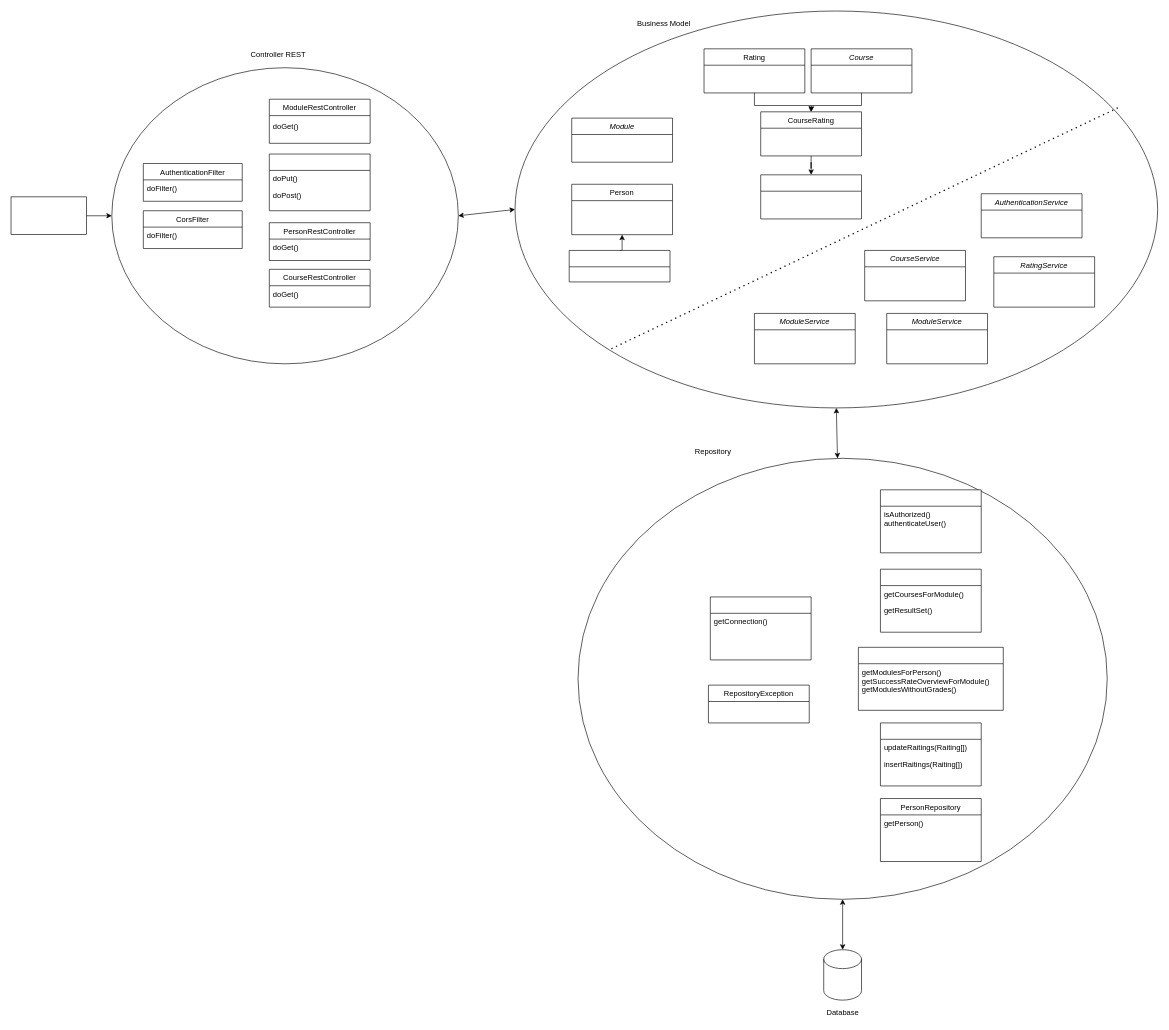
Some shapes in this 1169 by 1030 pixel diagram are drawn without their labels. The shapes that lost their labels are listed below. From the top down, each one's box as (x1, y1, x2, y2) in pixels, then its label:
(269, 153, 370, 211): RatingRestController
(760, 174, 862, 219): StudentCourseRating
(10, 196, 87, 235): REST - Request
(569, 250, 670, 282): Role
(880, 489, 981, 553): AuthenticationRepository
(880, 569, 981, 632): CourseRepository
(710, 596, 811, 660): EqualsDataSource
(858, 647, 1003, 710): ModuleRepository
(880, 722, 981, 786): RatingRepository
